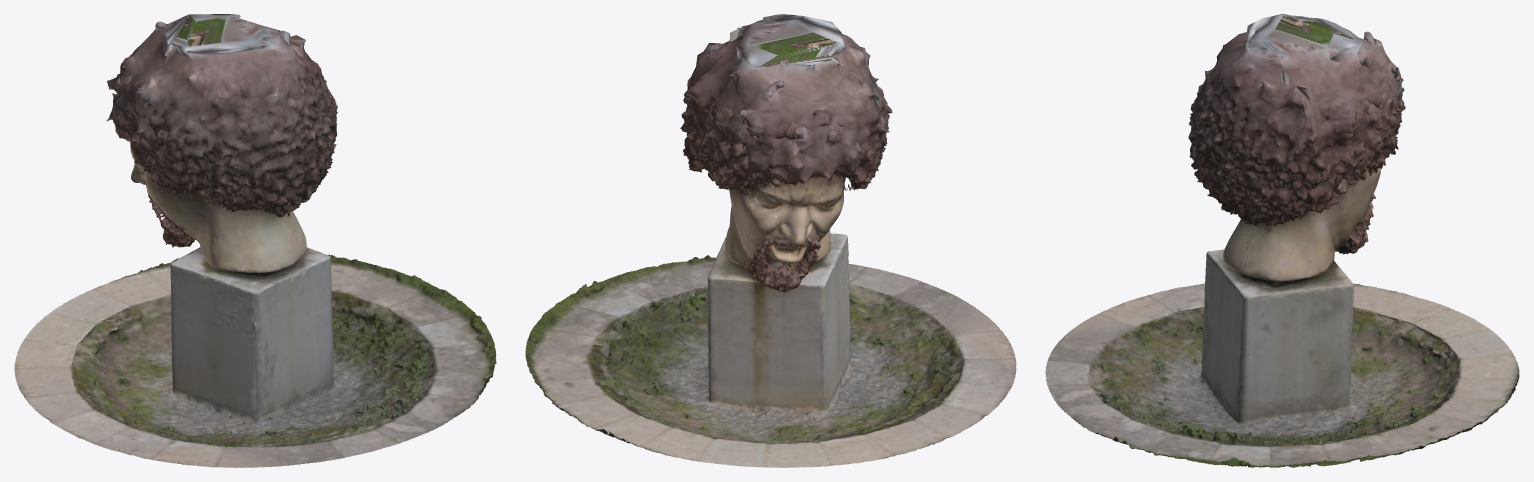
The model's file is luke_kelly_142k.obj.
3 views of the same model, side by side, from view 1: azimuth 30°, elevation 25°; view 2: azimuth 150°, elevation 25°; view 3: azimuth 270°, elevation 25° (orthographic). The views are drawn at different scales.
Visible parts, largest first — view 1: model; view 2: model; view 3: model.
Boxes of the visible parts, box(x1,y1,x2,y2) form: model: box(14, 14, 496, 467); model: box(525, 14, 1016, 467); model: box(1045, 14, 1519, 467).
Bounding box in the file's own units: 27.33 × 22.47 × 27.2.
Materials: 1 (1 with a texture image).
